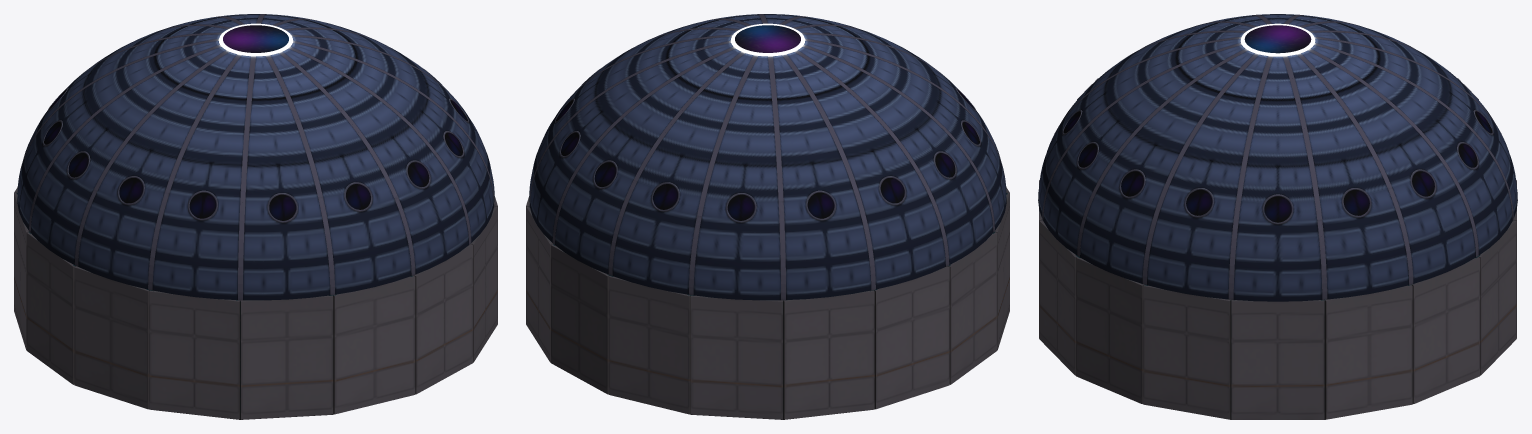
The model's file is environment_baked.glb.
3 renders of one model, left to right at view 1: azimuth 30°, elevation 25°; view 2: azimuth 150°, elevation 25°; view 3: azimuth 270°, elevation 25°, orthographic.
Parts seen in each view (by area): view 1: Env_Shell, Env_Detail, Ceiling_Ring; view 2: Env_Shell, Env_Detail, Ceiling_Ring; view 3: Env_Shell, Env_Detail, Ceiling_Ring.
Part boxes in pixels (x1=…): Env_Shell: x1=14, y1=14, x2=497, y2=419; Env_Detail: x1=43, y1=69, x2=468, y2=222; Ceiling_Ring: x1=218, y1=23, x2=293, y2=56; Env_Shell: x1=526, y1=14, x2=1009, y2=419; Env_Detail: x1=555, y1=69, x2=980, y2=222; Ceiling_Ring: x1=730, y1=23, x2=805, y2=56; Env_Shell: x1=1038, y1=14, x2=1517, y2=419; Env_Detail: x1=1062, y1=78, x2=1493, y2=224; Ceiling_Ring: x1=1240, y1=23, x2=1315, y2=56.
Size of what is drawn, in the model's own units: 13.2 by 8.55 by 13.2.
Materials: 5 (2 with a texture image).
